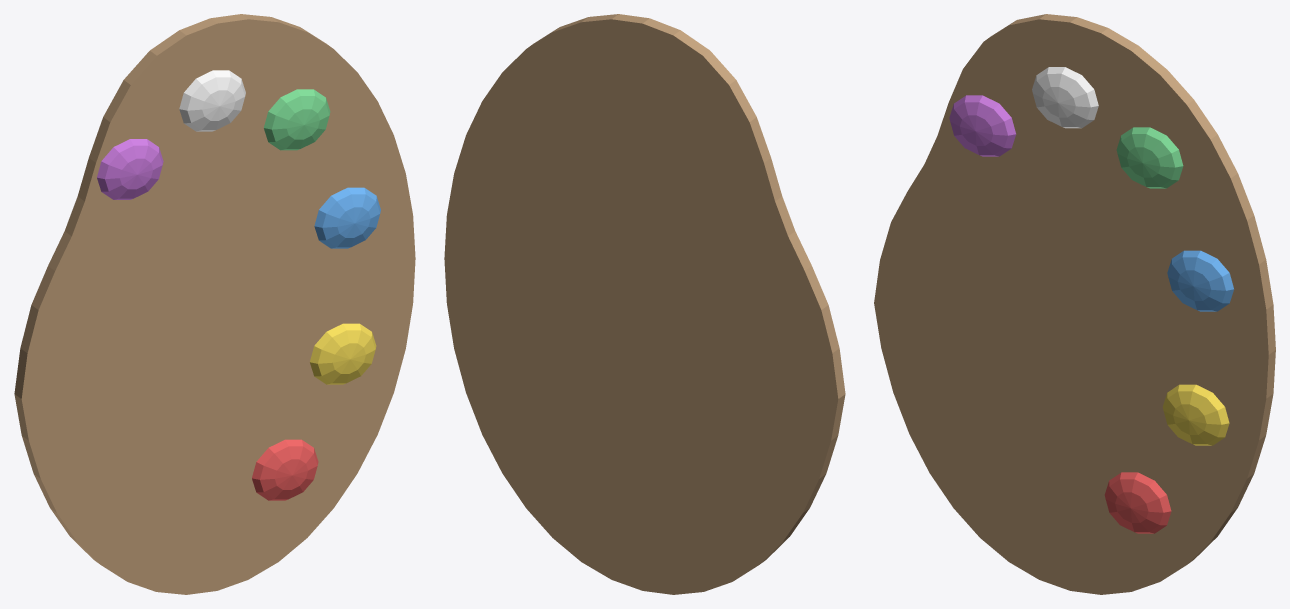
Rendered from palette.glb.
The picture shows the model from 3 angles, left to right: view 1: azimuth 30°, elevation 25°; view 2: azimuth 150°, elevation 25°; view 3: azimuth 330°, elevation 25°; orthographic projection.
Visible parts, largest first — view 1: palette; view 2: palette; view 3: palette.
Part boxes in pixels (x1=…): palette: x1=14, y1=14, x2=415, y2=594; palette: x1=444, y1=14, x2=845, y2=594; palette: x1=874, y1=14, x2=1275, y2=594.
Size of the model in its own units: 0.1888 by 0.2599 by 0.012.
